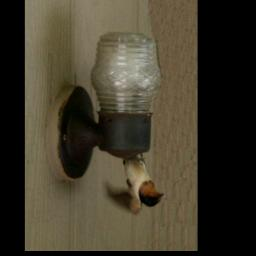Swallow: (103, 153, 164, 217)
